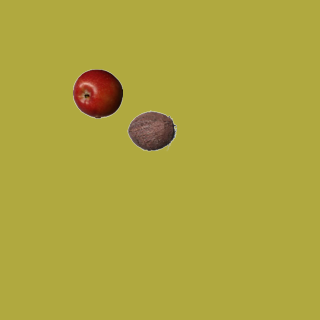Apple Braeburn: (72, 68, 122, 118)
Cocos: (126, 105, 176, 155)
